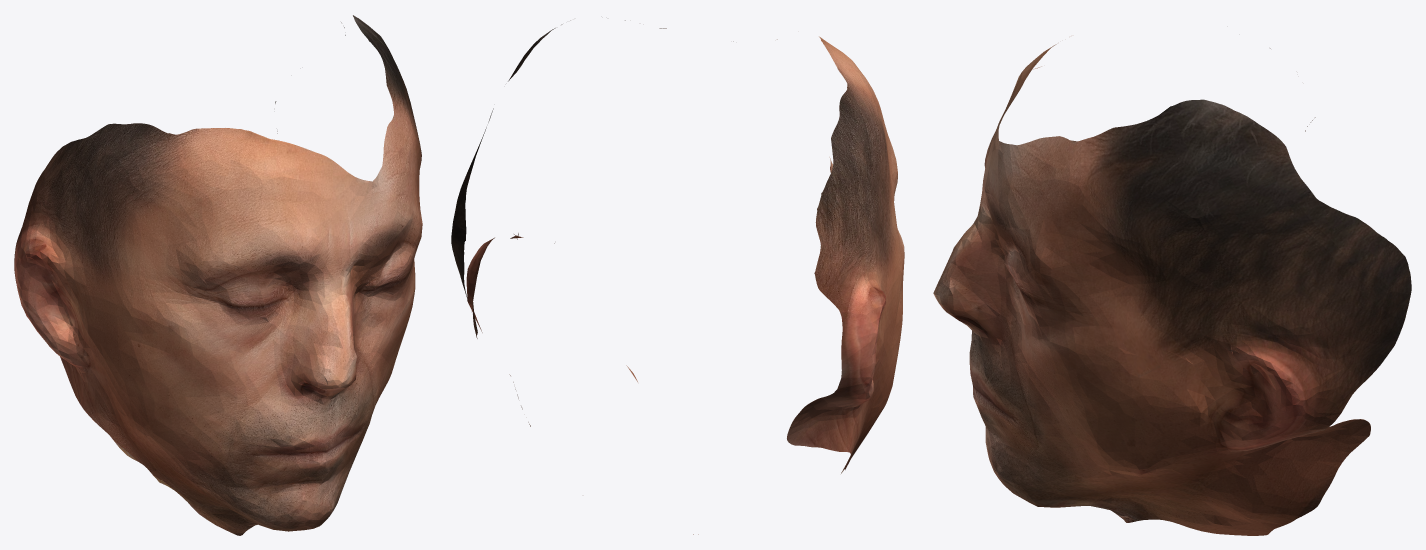
Rendered from BUSTO_1.glb.
3 views of the same model, side by side, from view 1: azimuth 30°, elevation 25°; view 2: azimuth 150°, elevation 25°; view 3: azimuth 270°, elevation 25° (orthographic). The views are drawn at different scales.
Visible parts, largest first — view 1: Mesh_0.015; view 2: Mesh_0.015; view 3: Mesh_0.015.
Part boxes in pixels (box(x1,y1,x2,y2)): Mesh_0.015: box(14, 15, 422, 535); Mesh_0.015: box(451, 19, 904, 534); Mesh_0.015: box(933, 44, 1411, 535).
Bounding box in the file's own units: 3.33 × 3.85 × 3.31.
1 material, 1 textured.
